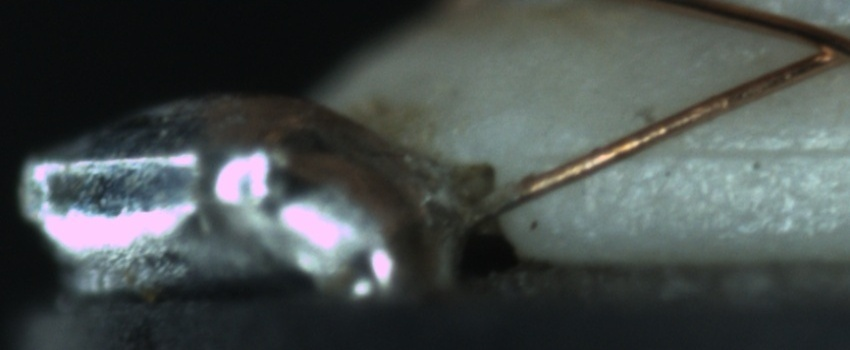CL: (791, 19, 850, 74)
DL: (568, 120, 849, 185)
